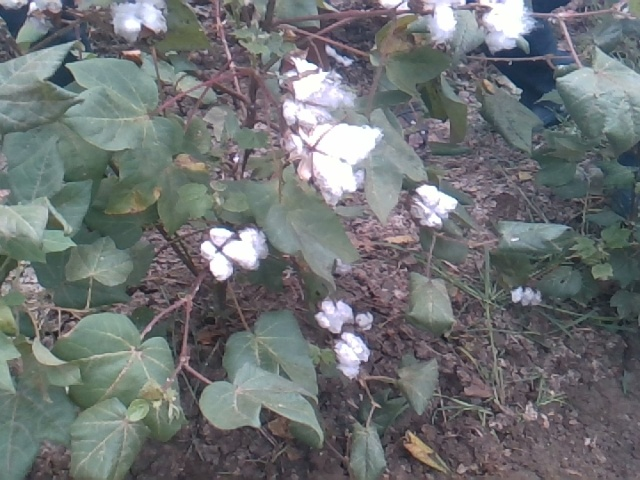cotton: (290, 124, 380, 203), (272, 68, 339, 123), (200, 227, 254, 287), (478, 4, 536, 57), (406, 185, 463, 237), (109, 2, 175, 44), (419, 2, 469, 53), (330, 330, 375, 384), (313, 295, 357, 336), (273, 56, 322, 83), (241, 226, 274, 266), (506, 280, 547, 312), (350, 308, 375, 332)
